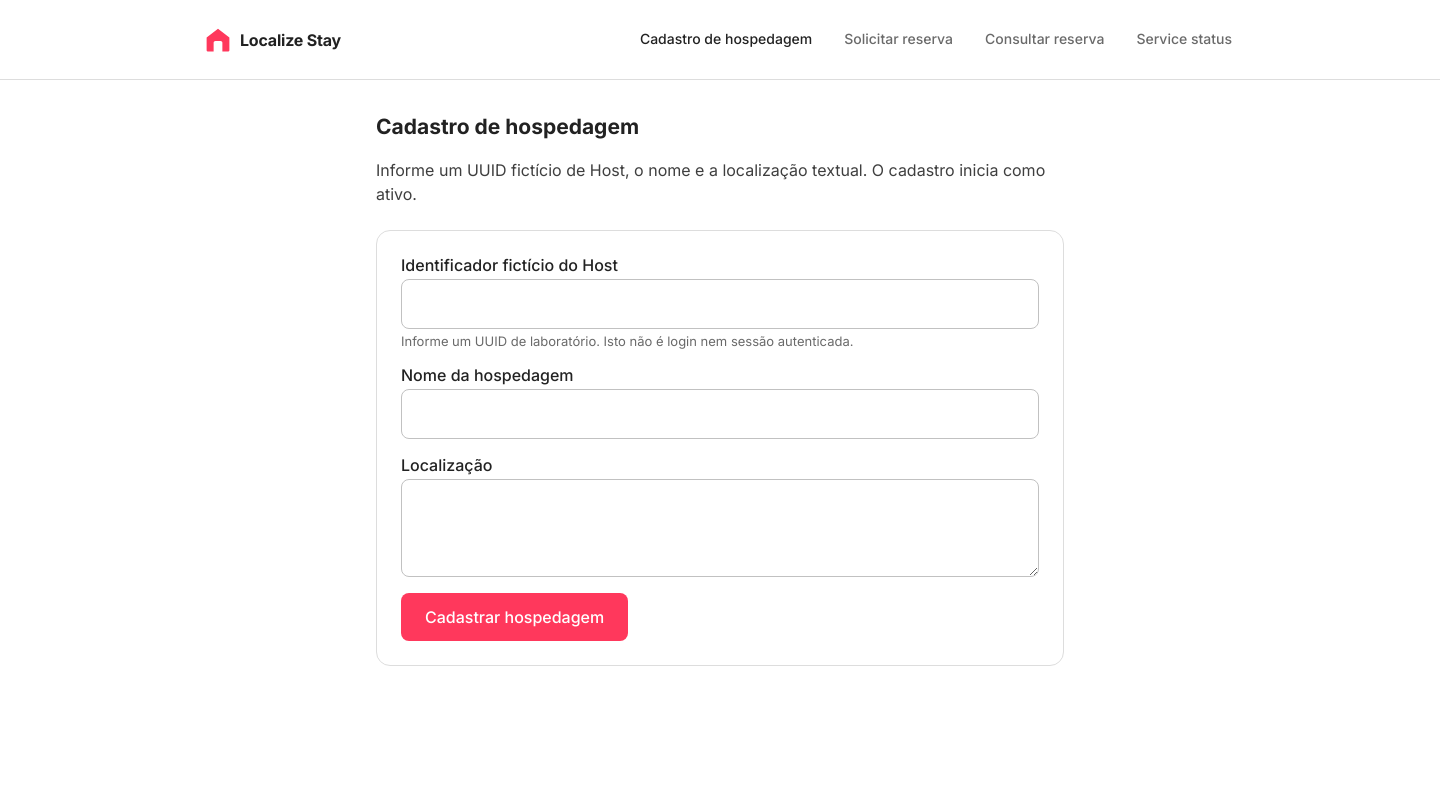
Test case: PropertyUpdate › patches only the changed location and preserves id, host and status on 200
The width and height of the screenshot is (1440, 810).
Type "421ec5d4-3ba2-4d8e-8958-a51dd0711650" into the field labelled "Identificador fictício do Host".
click(720, 304); type("421ec5d4-3ba2-4d8e-8958-a51dd0711650")  # box x1=401 y1=279 x2=1039 y2=329
Type "Pousada Dunas do Sol" into the field labelled "Nome da hospedagem".
click(720, 414); type("Pousada Dunas do Sol")  # box x1=401 y1=389 x2=1039 y2=439
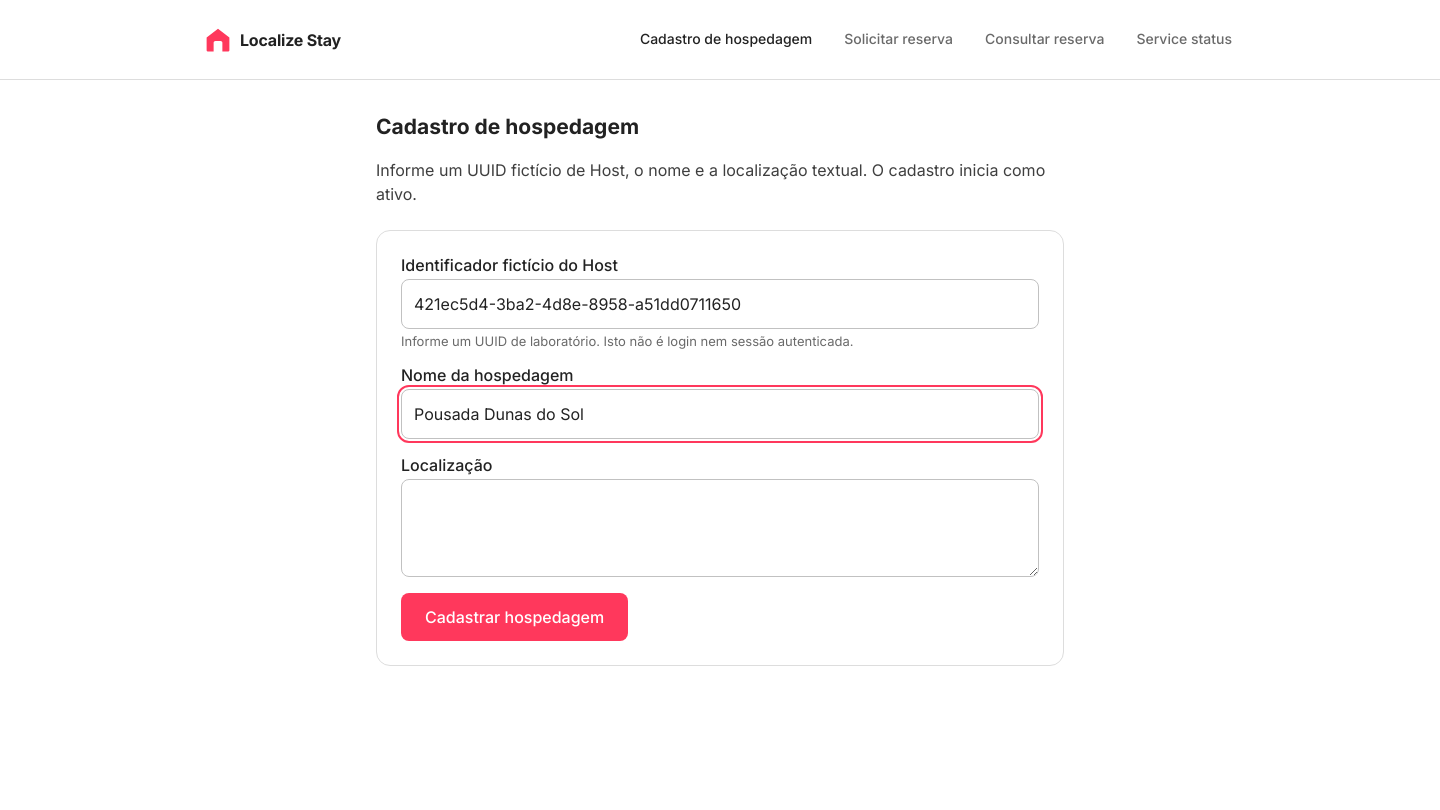
Type "Cumbuco, Caucaia - CE" into the text box labelled "Localização".
click(720, 528); type("Cumbuco, Caucaia - CE")  # box x1=401 y1=479 x2=1039 y2=577
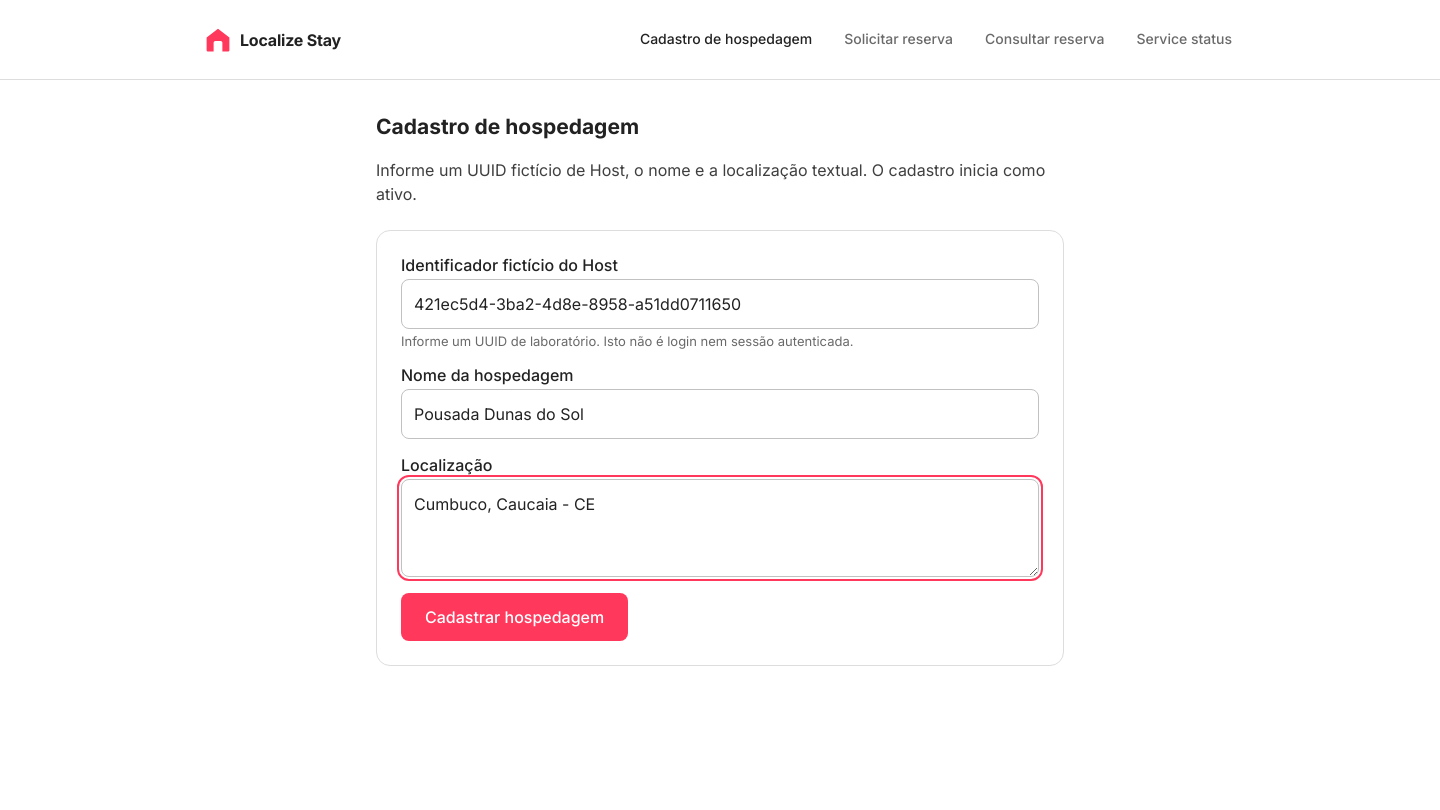
Click the button "Cadastrar hospedagem".
click(515, 617)  # box x1=401 y1=593 x2=628 y2=641
(page scrolled)
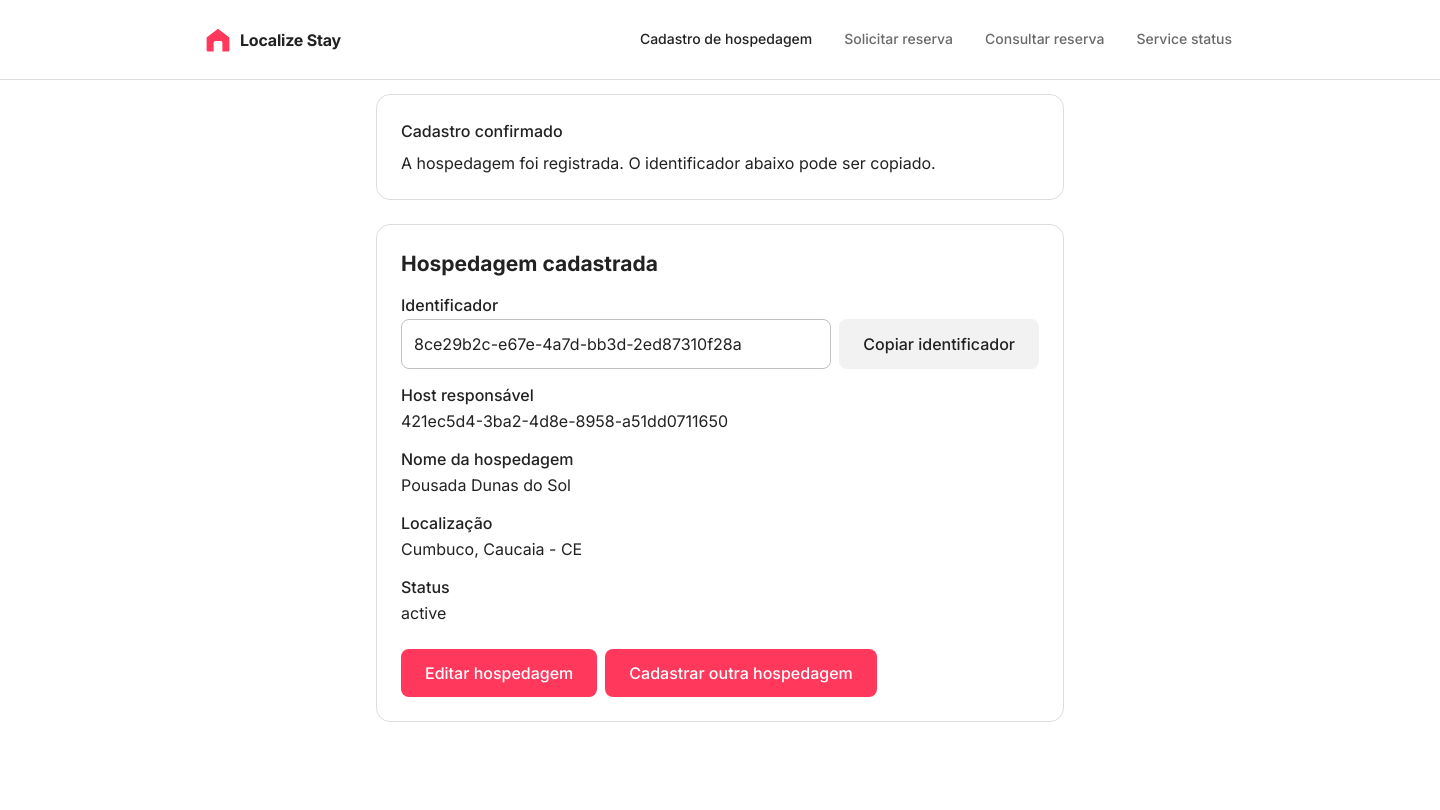
Now the heading "Hospedagem cadastrada" is shown, box x1=401 y1=251 x2=658 y2=276
Click the button "Editar hospedagem".
click(499, 673)  # box x1=401 y1=649 x2=597 y2=697
(page scrolled)
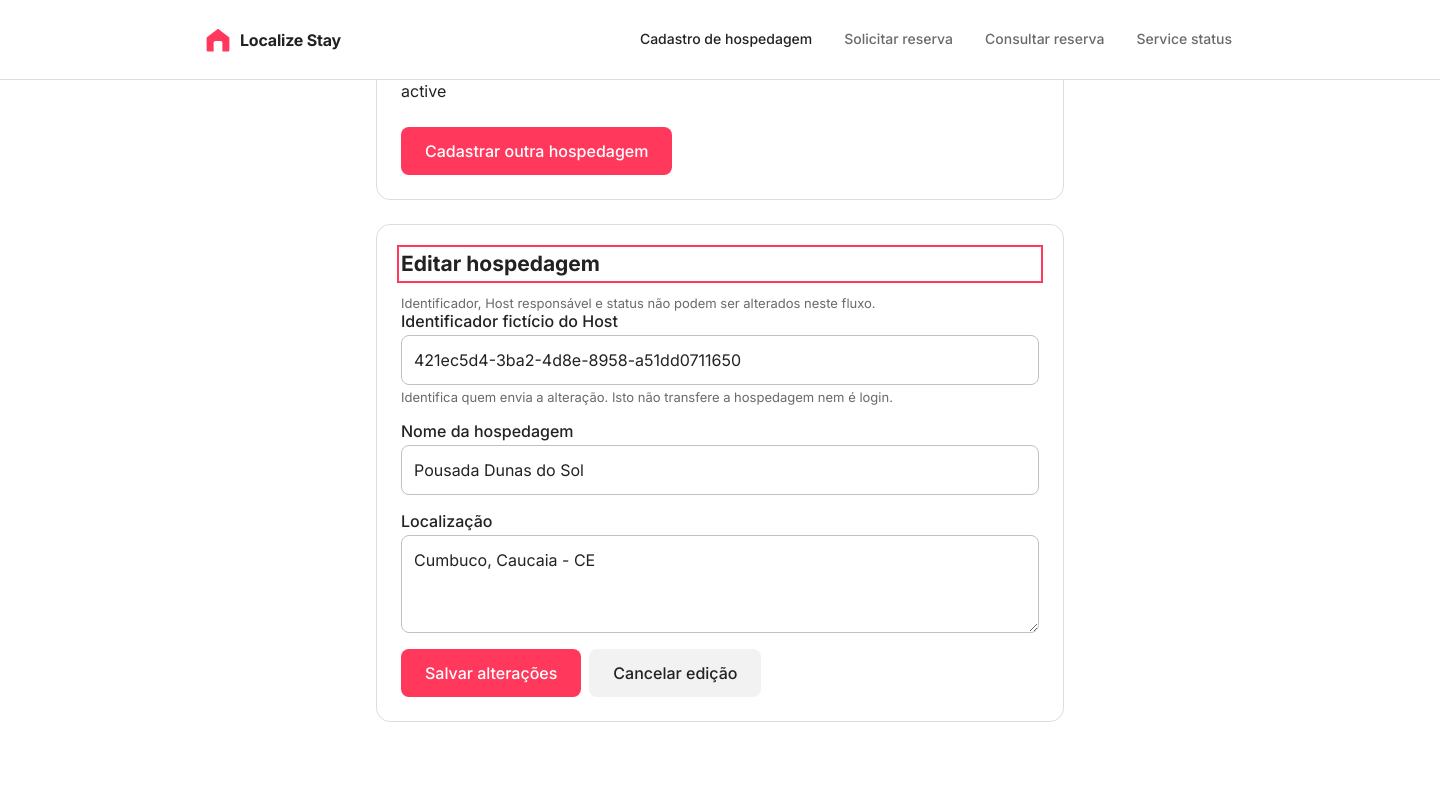
Now the heading "Editar hospedagem" is shown, box x1=401 y1=251 x2=600 y2=276
Replace the text in the text box labelled "Localização" with "Praia de Cumbuco, Caucaia - CE" at (720, 584), box x1=401 y1=535 x2=1039 y2=633
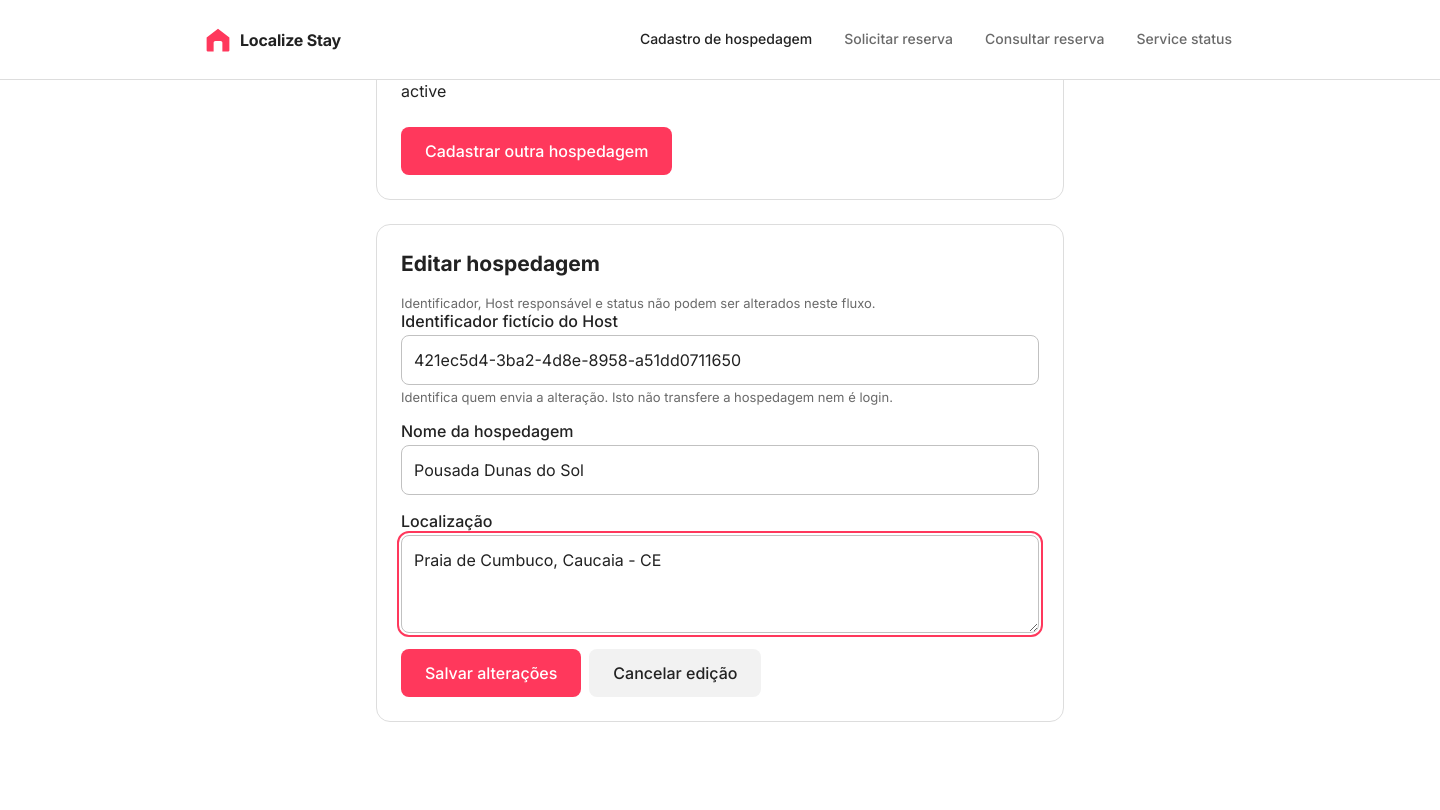
Click the button "Salvar alterações".
click(491, 673)  # box x1=401 y1=649 x2=581 y2=697
(page scrolled)
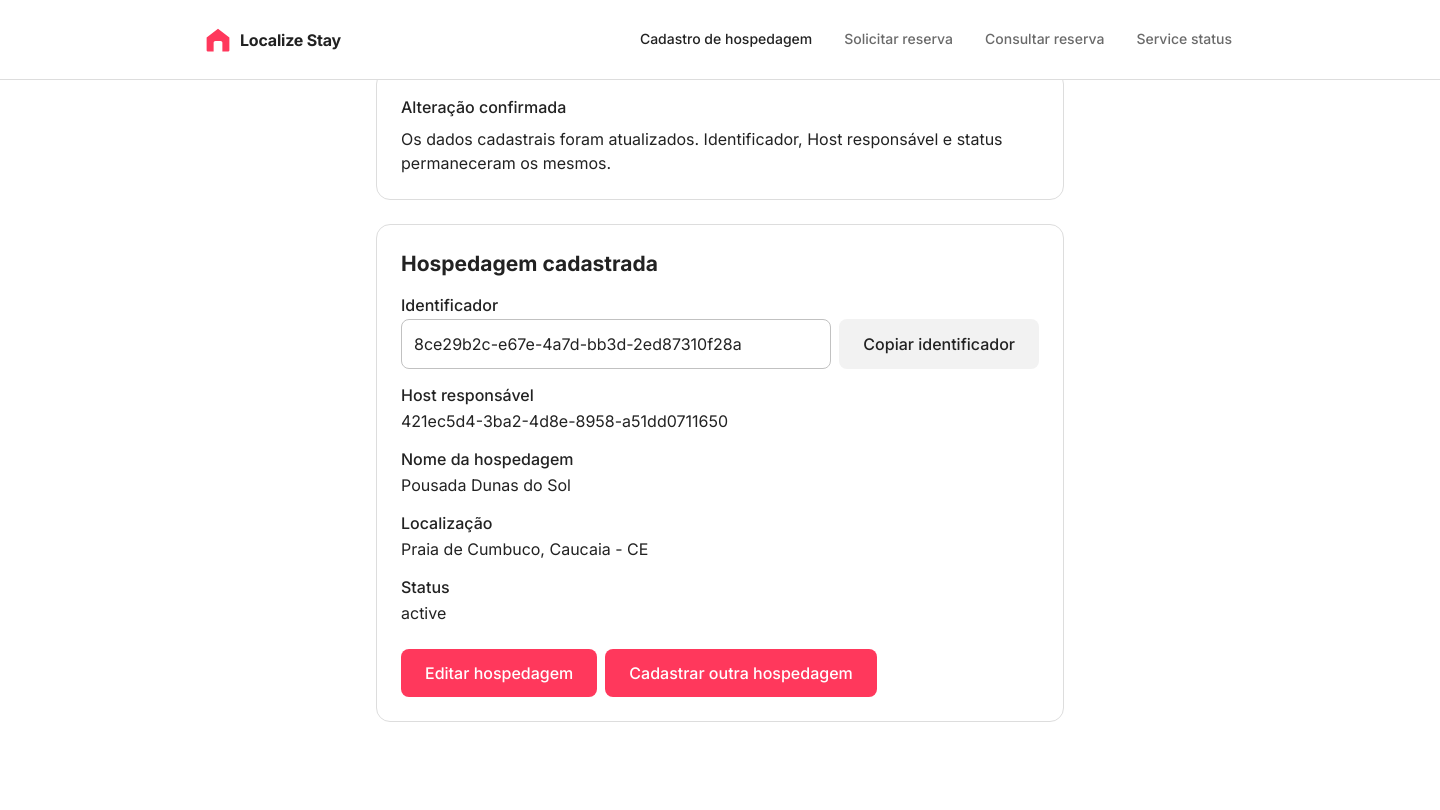
Now the heading "Hospedagem cadastrada" is shown, box x1=401 y1=251 x2=658 y2=276
Now the field labelled "Identificador" holds "8ce29b2c-e67e-4a7d-bb3d-2ed87310f28a", box x1=401 y1=319 x2=831 y2=369
Now the message "Alteração confirmada" is shown, box x1=376 y1=70 x2=1064 y2=200
